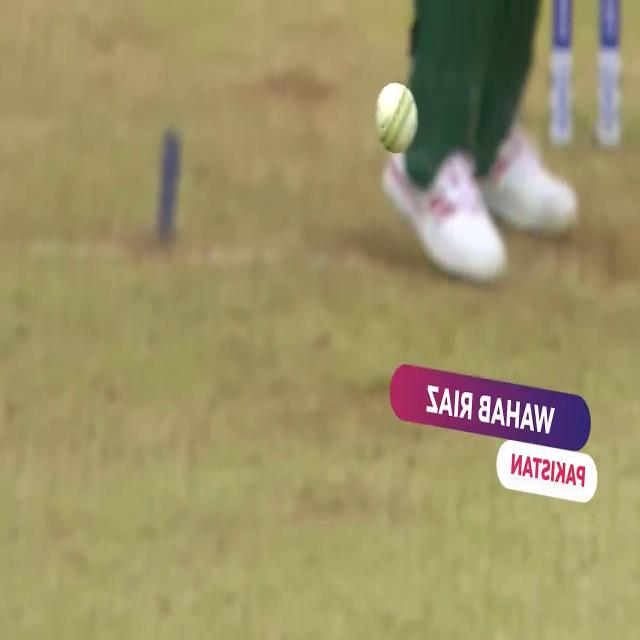ball: (372, 81, 418, 157)
